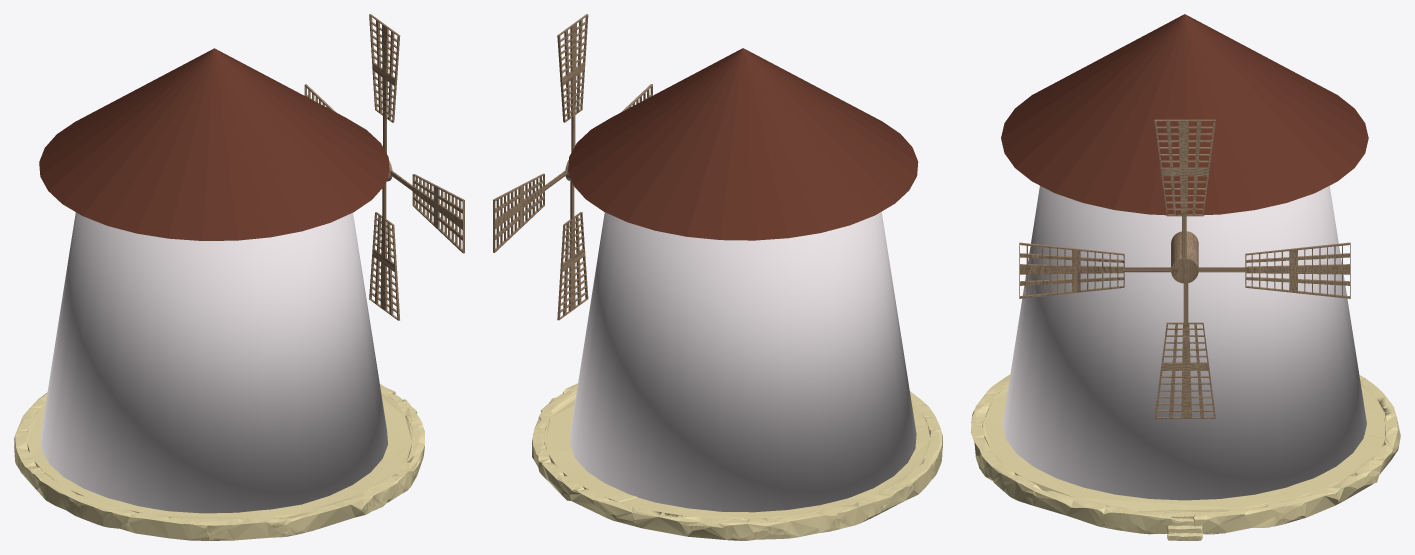
Rendered from Molino2ConMuroDePiedra.fbx.
The picture shows the model from 3 angles, left to right: view 1: azimuth 30°, elevation 25°; view 2: azimuth 150°, elevation 25°; view 3: azimuth 270°, elevation 25°; orthographic projection. The views are drawn at different scales.
Visible parts, largest first — view 1: Base, Techo, Cylinder, Aspas1, Aspas4, Aspas3; view 2: Base, Techo, Cylinder, Aspas4, Aspas3, Aspas2; view 3: Base, Techo, Cylinder, Aspas3, Aspas1, Aspas4, Aspas2, RotorMolino.
Part boxes in pixels (left/top/right/bottom): Base: left=40, top=212, right=387, bottom=513; Techo: left=39, top=48, right=389, bottom=240; Cylinder: left=14, top=384, right=424, bottom=540; Aspas1: left=390, top=170, right=464, bottom=253; Aspas4: left=369, top=182, right=399, bottom=320; Aspas3: left=369, top=14, right=400, bottom=153; Base: left=569, top=212, right=916, bottom=512; Techo: left=568, top=48, right=918, bottom=240; Cylinder: left=532, top=383, right=942, bottom=540; Aspas4: left=557, top=181, right=588, bottom=320; Aspas3: left=557, top=14, right=588, bottom=152; Aspas2: left=493, top=170, right=567, bottom=252; Base: left=1002, top=186, right=1366, bottom=500; Techo: left=1001, top=14, right=1368, bottom=215; Cylinder: left=971, top=374, right=1400, bottom=540; Aspas3: left=1154, top=119, right=1215, bottom=258; Aspas1: left=1019, top=242, right=1171, bottom=298; Aspas4: left=1154, top=283, right=1215, bottom=418; Aspas2: left=1198, top=242, right=1350, bottom=298; RotorMolino: left=1171, top=231, right=1198, bottom=283.
Size of the model in its own units: 16040 by 17057 by 15524.
